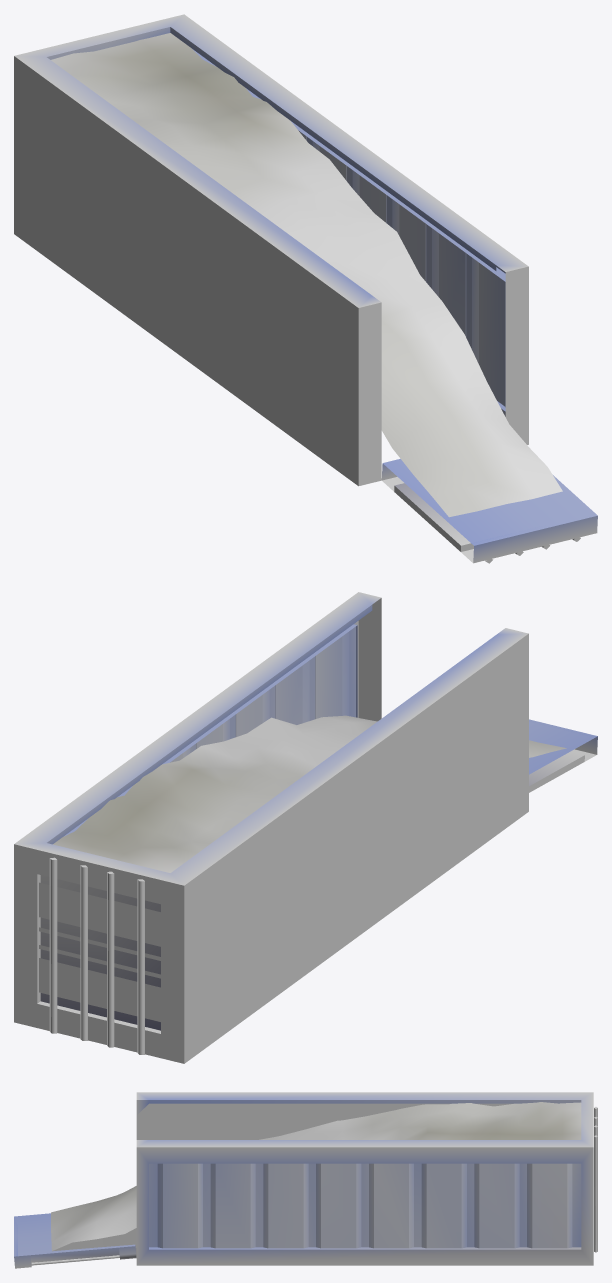
Rendered from sandbox-blue-opened.fbx.
3 views of the same model, one above another, from view 1: azimuth 30°, elevation 25°; view 2: azimuth 150°, elevation 25°; view 3: azimuth 270°, elevation 25° (orthographic). The views are drawn at different scales.
Visible parts, largest first — view 1: sandbox-blue.001, sandbox-blue.002; view 2: sandbox-blue.001, sandbox-blue.002; view 3: sandbox-blue.001, sandbox-blue.002.
Boxes of the visible parts, <box> form: sandbox-blue.001: <box>14,14,562,517</box>; sandbox-blue.002: <box>381,459,597,563</box>; sandbox-blue.001: <box>14,592,566,1063</box>; sandbox-blue.002: <box>529,719,597,792</box>; sandbox-blue.001: <box>51,1092,597,1265</box>; sandbox-blue.002: <box>14,1213,136,1268</box>.
Size of the model in its own units: 80 by 89.83 by 358.
